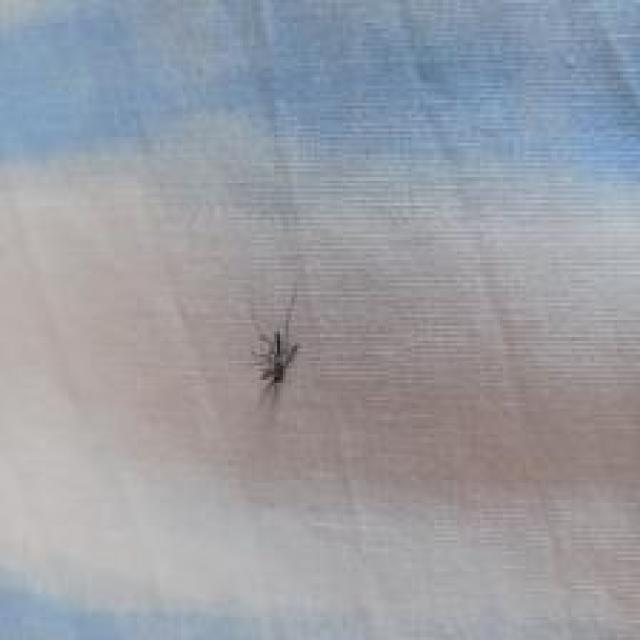Aedes albopictus: (247, 283, 302, 408)
